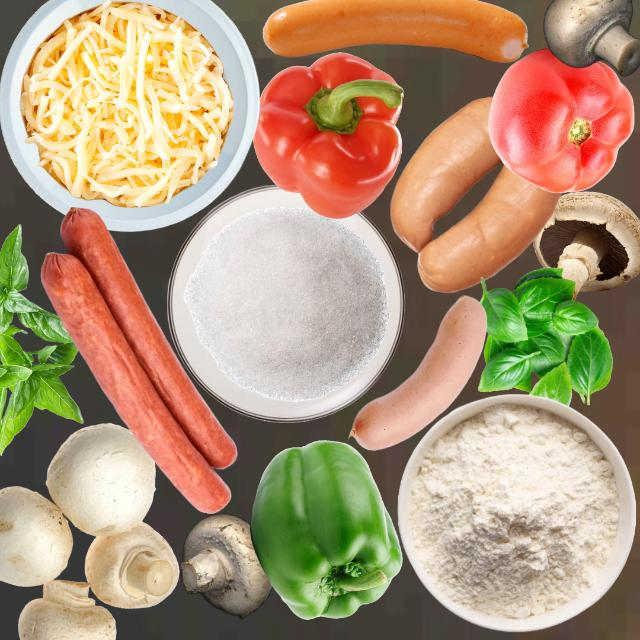Flour: (407, 404, 620, 619)
Sugar: (183, 205, 388, 401)
